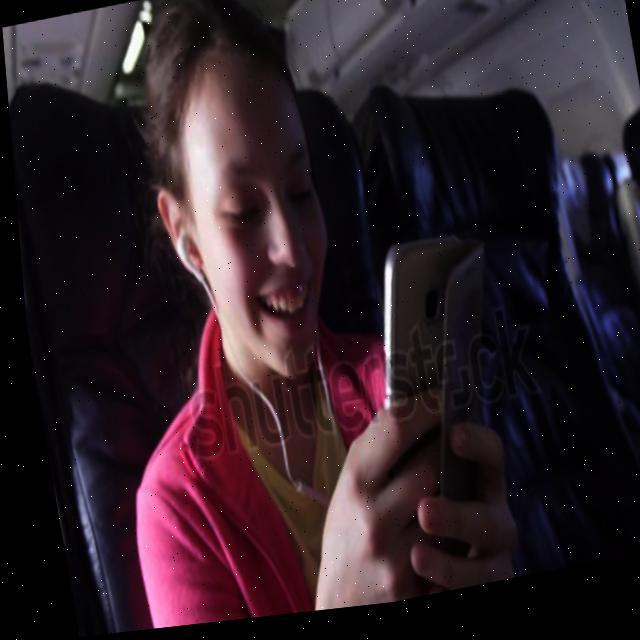PhoneCall: (351, 230, 523, 578)
